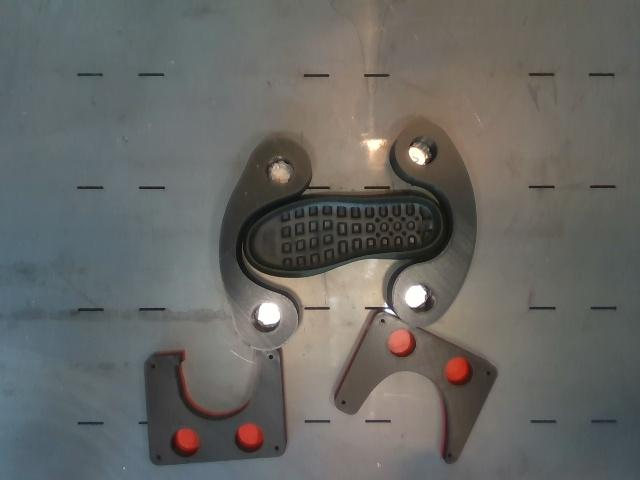shoes: (248, 197, 441, 271)
